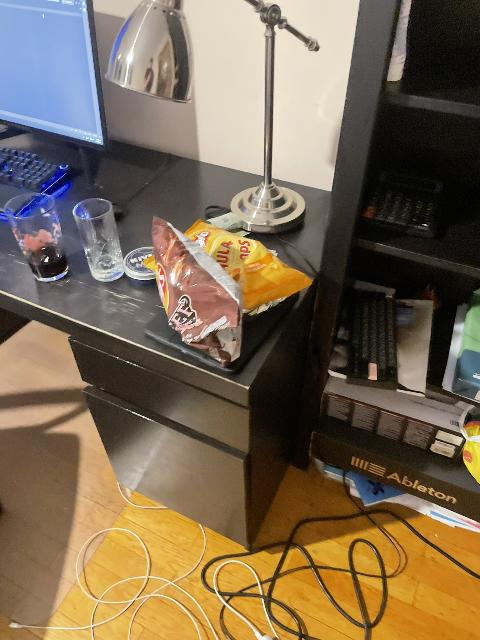Chio Hula Hoops Cheese 70g: (183, 217, 309, 315)
Lays Beef Grilled Ribs 125g: (153, 217, 244, 356)
